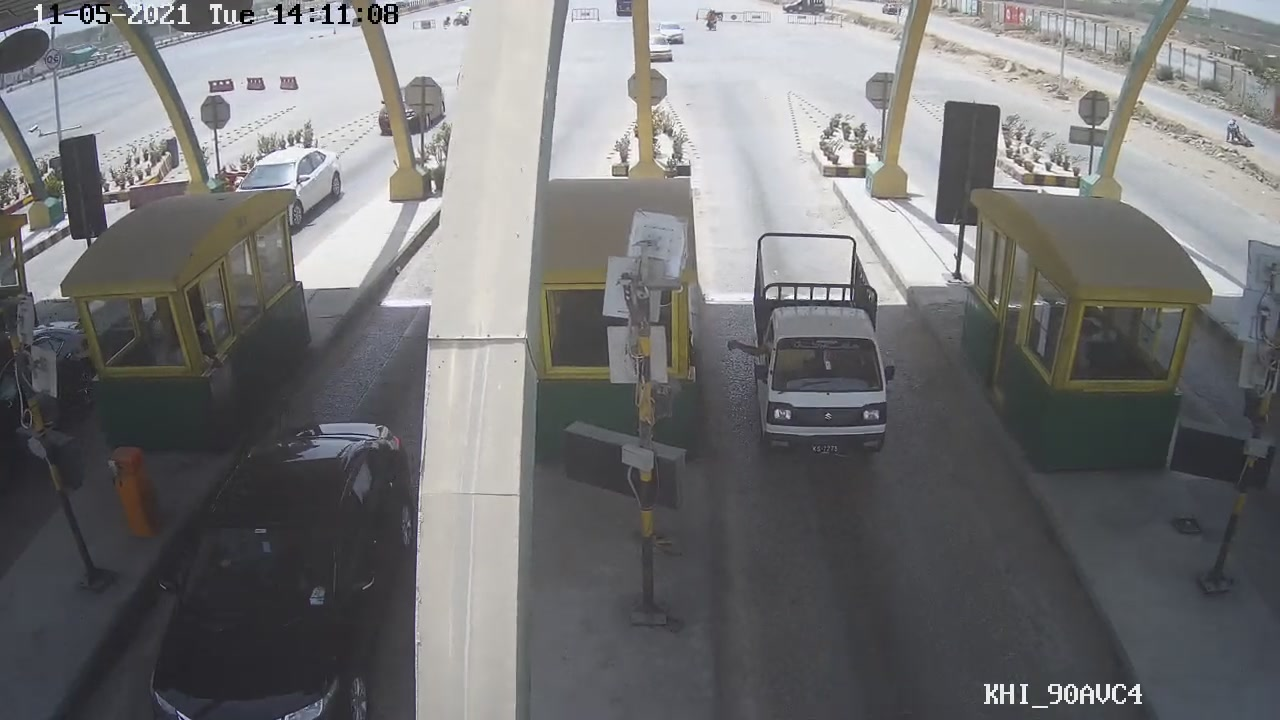F1: (722, 229, 902, 460)
